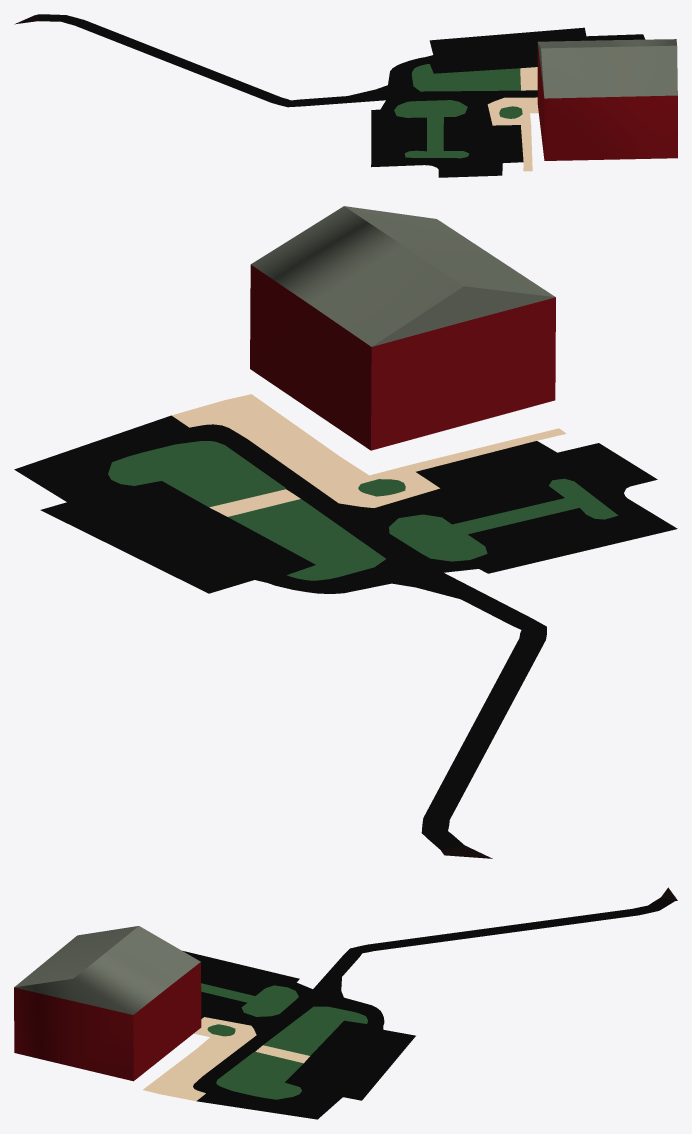
The model's file is isobhsllibrary.glb.
The picture shows the model from 3 angles, top to bottom: view 1: azimuth 30°, elevation 25°; view 2: azimuth 150°, elevation 25°; view 3: azimuth 270°, elevation 25°; orthographic projection. The views are drawn at different scales.
Visible parts, largest first — view 1: Cylinder.004; view 2: Cylinder.004; view 3: Cylinder.004.
Boxes of the visible parts, left/top/right/bottom form: Cylinder.004: left=14, top=14, right=677, bottom=177; Cylinder.004: left=14, top=206, right=677, bottom=858; Cylinder.004: left=14, top=887, right=677, bottom=1119.
Size of the model in its own units: 0.2049 by 0.0412 by 0.2462.
